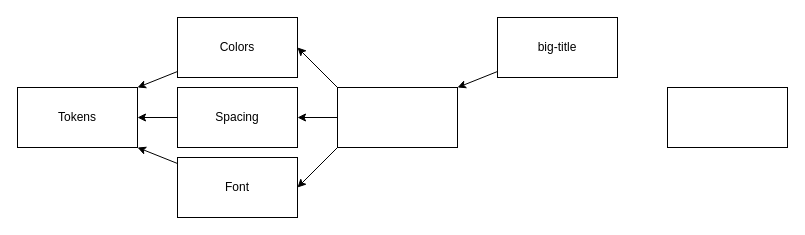
This 805x235 diagram has some shape labels left out. Each missing label, with the box of its shape:
Components/index: (666, 86, 788, 148)
utils/index: (336, 86, 458, 148)
